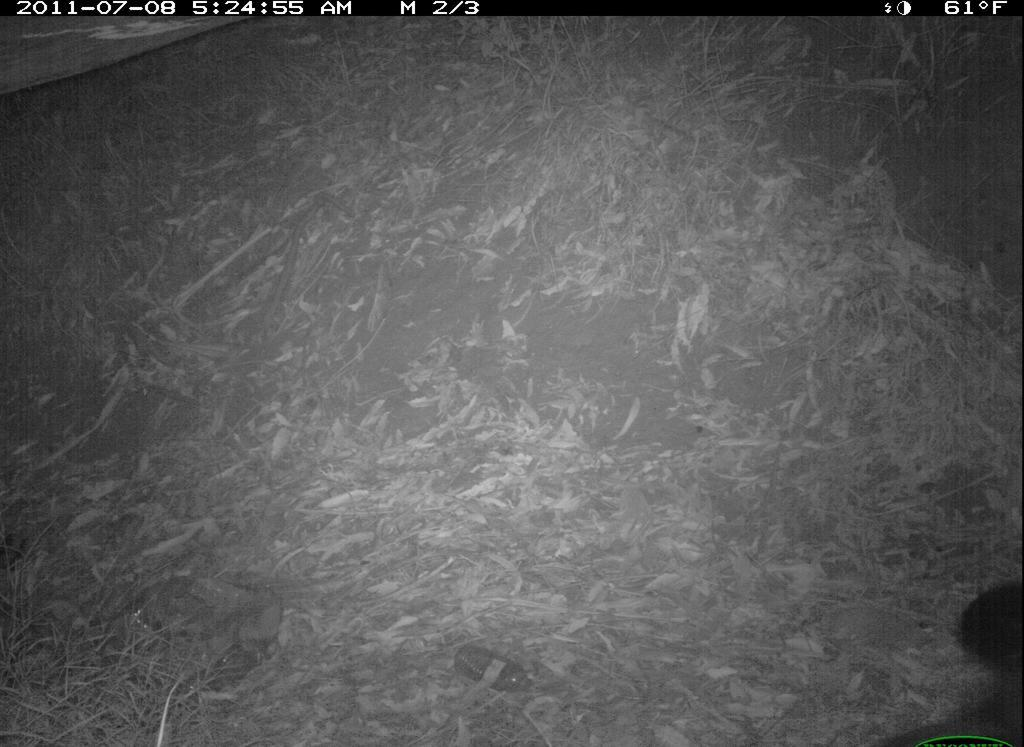dog: (913, 548, 1023, 747)
